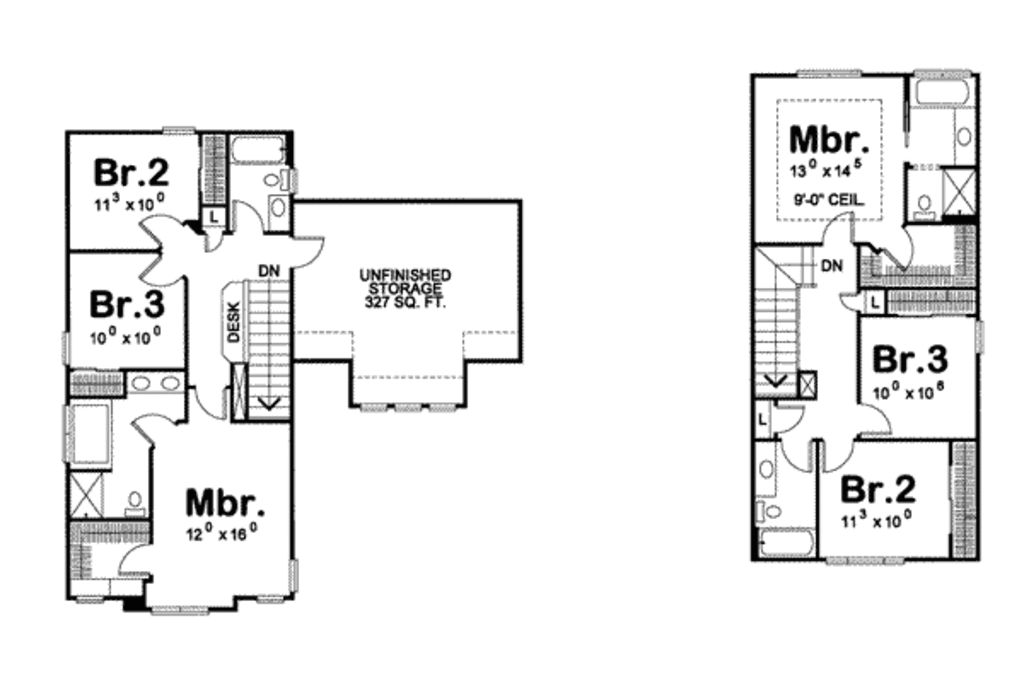door: (133, 253, 182, 293), (128, 412, 178, 446), (189, 385, 229, 426), (881, 223, 915, 270), (139, 214, 191, 243), (116, 539, 156, 575), (821, 204, 859, 240), (779, 439, 817, 475), (771, 401, 805, 439), (823, 441, 855, 476), (859, 402, 889, 437), (293, 237, 327, 267), (234, 201, 263, 235), (835, 290, 860, 319), (203, 225, 226, 254)
large_sink: (908, 184, 943, 226), (117, 484, 152, 522), (753, 500, 791, 523), (259, 168, 290, 195)
small_sink: (758, 447, 778, 496), (955, 117, 973, 162), (269, 197, 289, 232), (159, 369, 183, 395), (129, 371, 157, 392)
stairs: (753, 240, 820, 396), (240, 276, 293, 423)
tub: (228, 132, 288, 167), (912, 78, 980, 102)
window: (795, 68, 860, 78), (914, 67, 973, 77), (166, 128, 198, 133)
